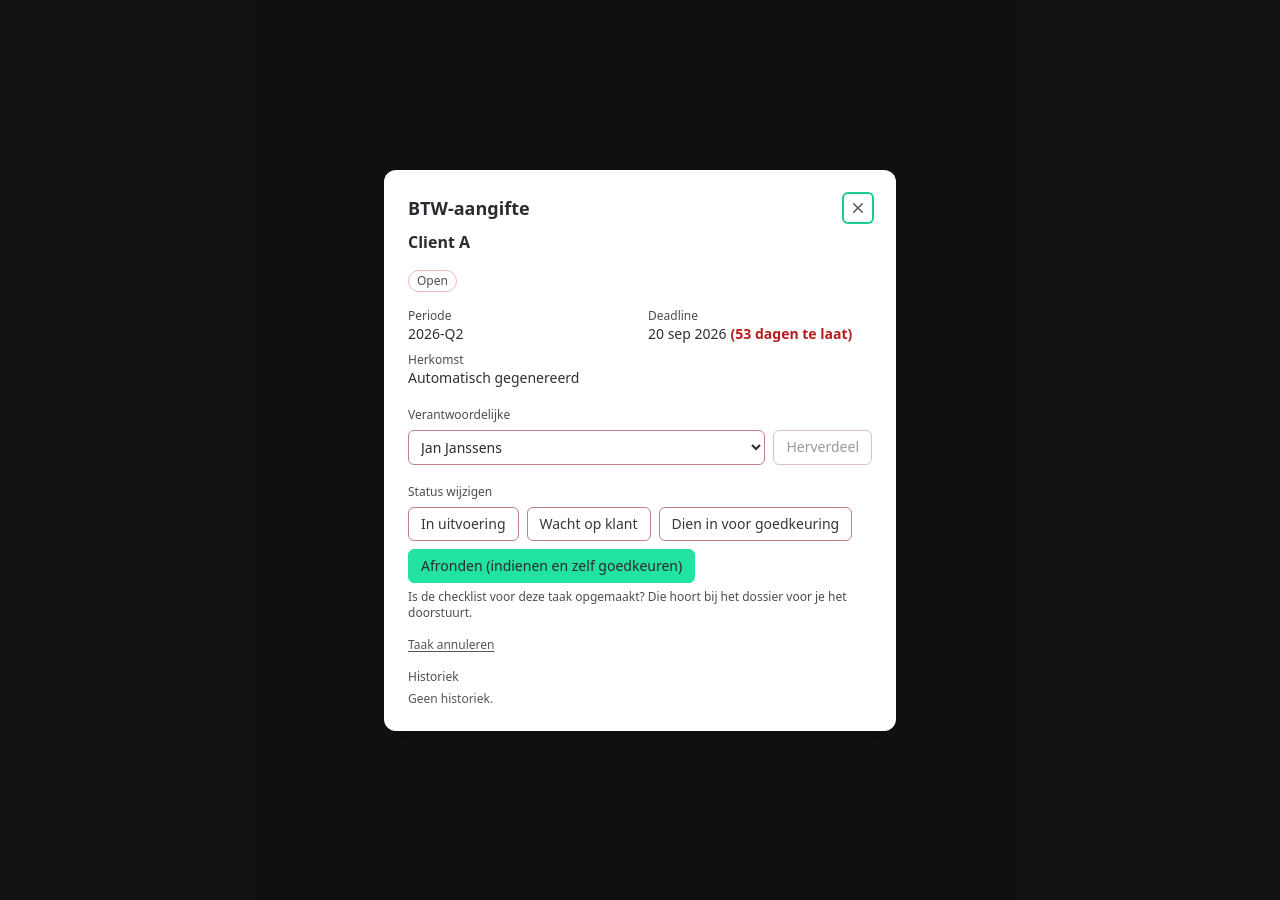
Test: TaskDetailModal — afronden in één klik › meldt de tussentoestand wanneer de goedkeuringsstap faalt na een geslaagde indiening
The image size is (1280, 900).
Click the button "Afronden (indienen en zelf goedkeuren)" at x=552, y=566, box [408, 548, 695, 582]
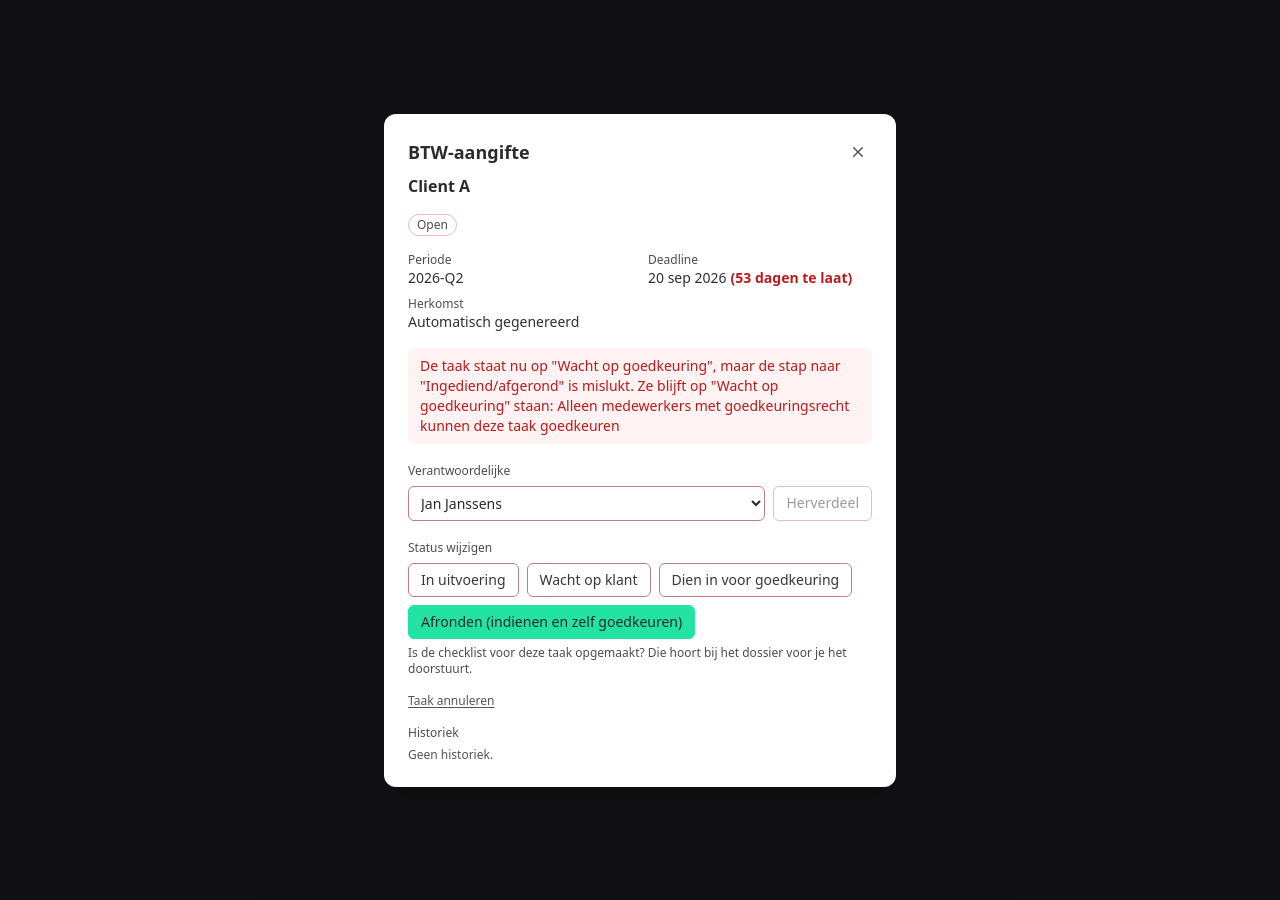
Result: the message shows "staat nu op \"Wacht op goedkeuring\"" at [420, 356, 849, 434]
Result: the message shows "goedkeuringsrecht" at [420, 356, 849, 434]
